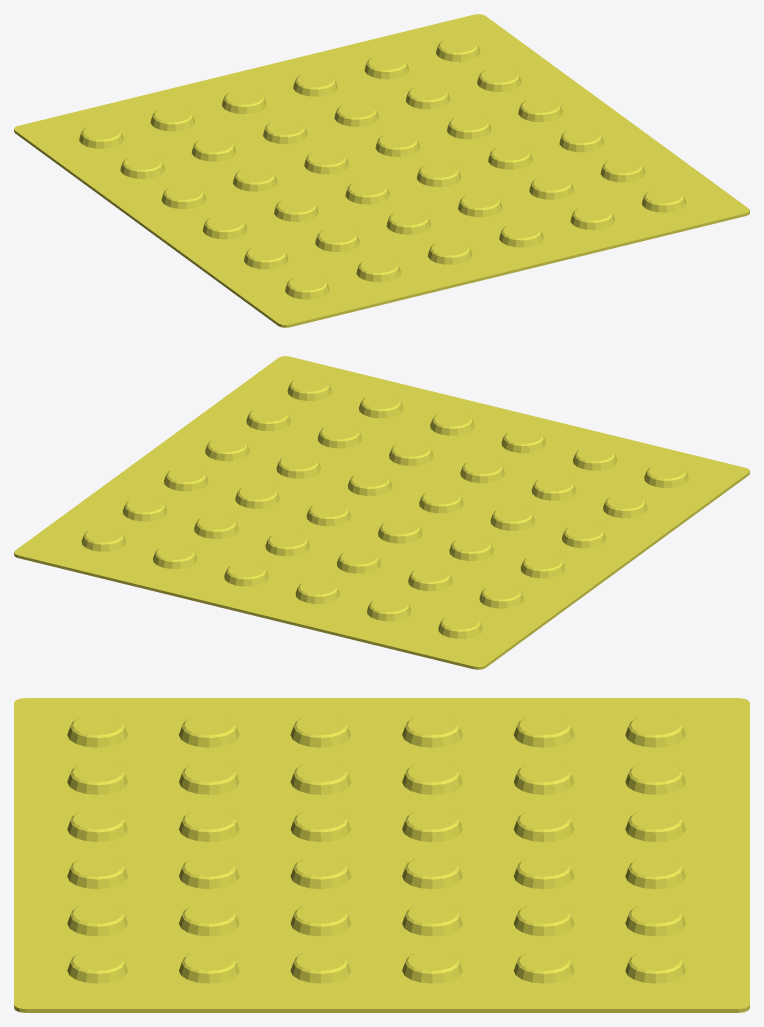
The model's file is Poster_brailleblock.fbx.
3 renders of one model, top to bottom at view 1: azimuth 30°, elevation 25°; view 2: azimuth 150°, elevation 25°; view 3: azimuth 270°, elevation 25°, orthographic. The views are drawn at different scales.
Parts seen in each view (by area): view 1: block.001; view 2: block.001; view 3: block.001.
Boxes of the visible parts, x1,y1,x2,y2 form: block.001: (14,14,749,327); block.001: (14,356,749,669); block.001: (14,698,749,1012).
Bounding box in the file's own units: 197 × 4.11 × 197.
